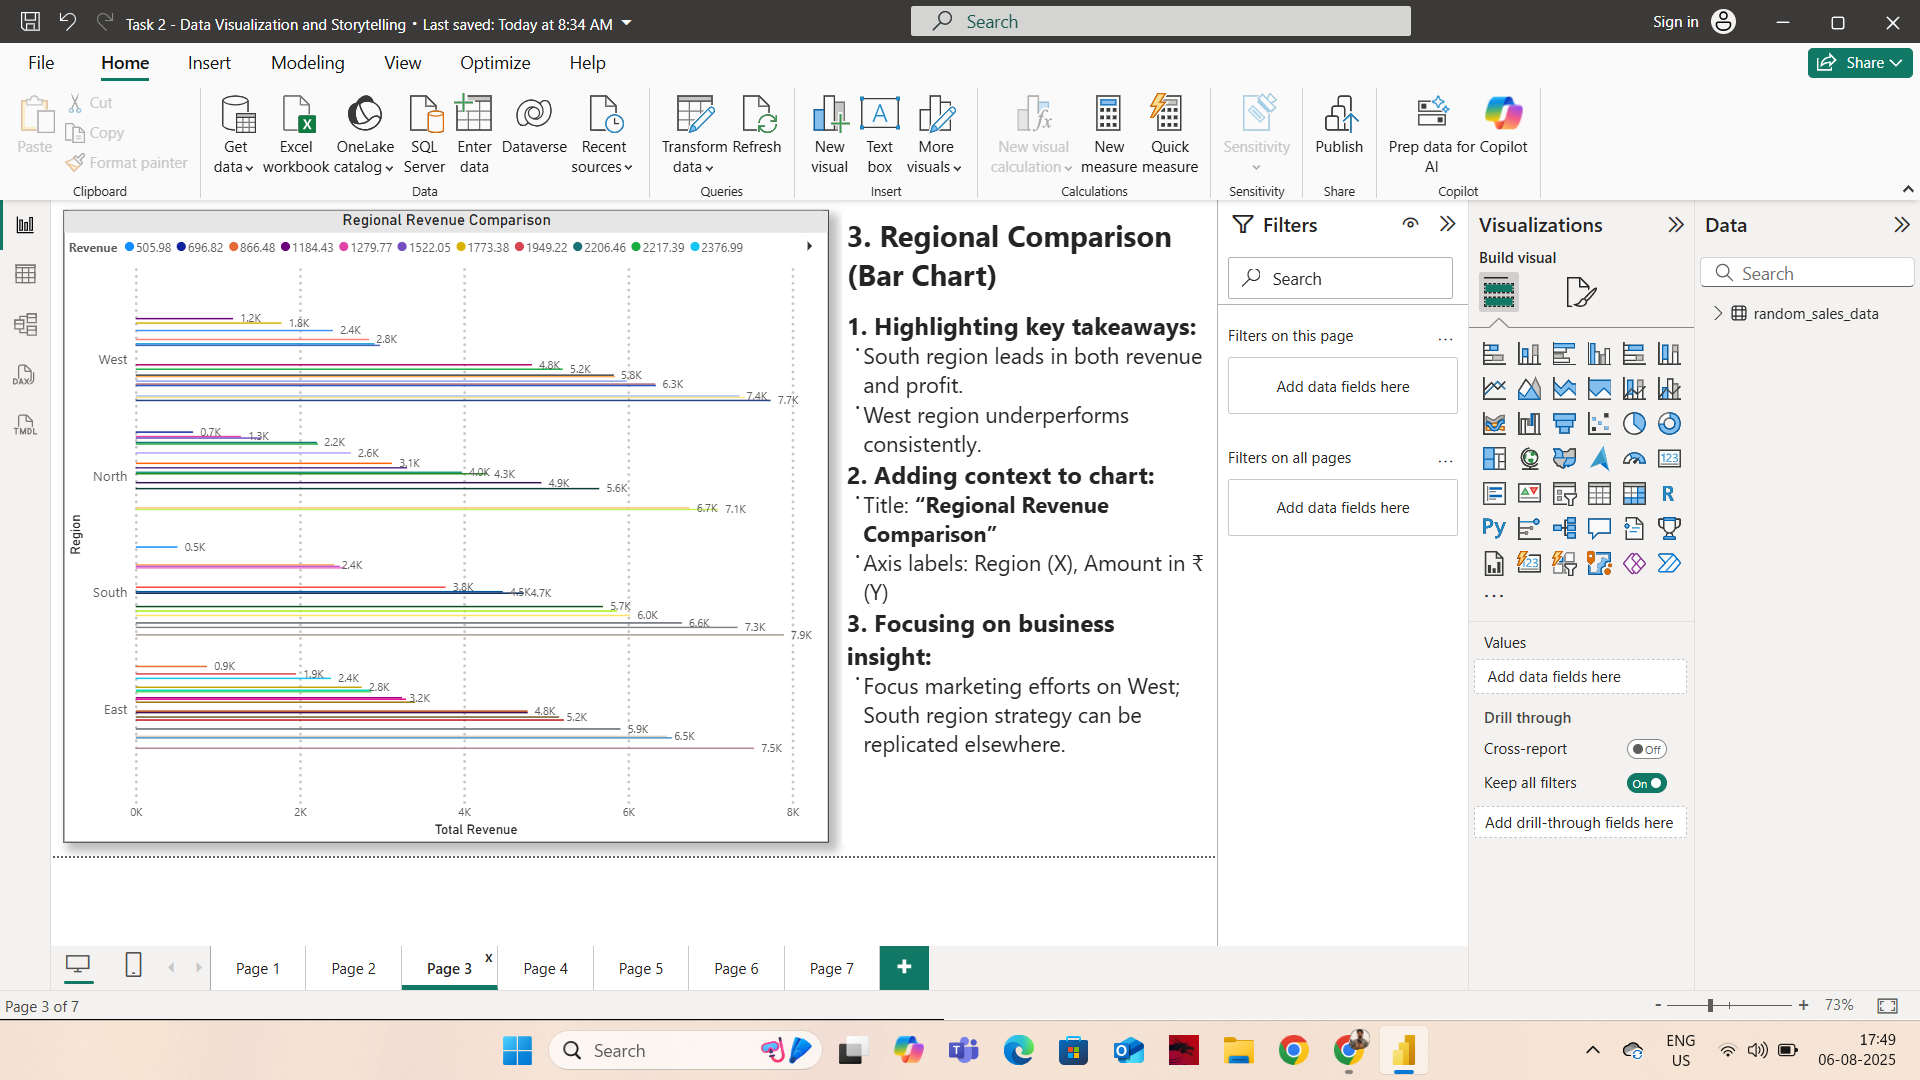

The page's visual inventory and layout, read from the dashboard file:
{"tool":"powerbi","page":{"name":"Page 3","canvas":[1280,720],"ordinal":2},"visuals":[{"type":"clusteredBarChart","title":"Regional Revenue Comparison","fields":{"Y":["random_sales_data.Total Revenue"],"Category":["random_sales_data.Region"],"Series":["random_sales_data.Revenue"]},"box":[13.7,11,839.8,694.3],"z":0},{"type":"textbox","box":[868.6,12.3,402.1,694.3],"z":1000}]}

Visuals, with their boxes on the page's 1280x720 design canvas (x1, y1, x2, y2). These are canvas units, not pixel positions in the 1920x1080 screenshot, which may show the page scaled, cropped or inside an application window:
"Regional Revenue Comparison" clusteredBarChart: (left=14, top=11, right=854, bottom=705)
textbox: (left=869, top=12, right=1271, bottom=707)
